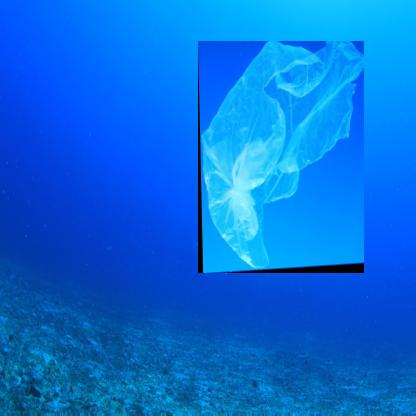plastic-bag: (198, 41, 365, 274)
